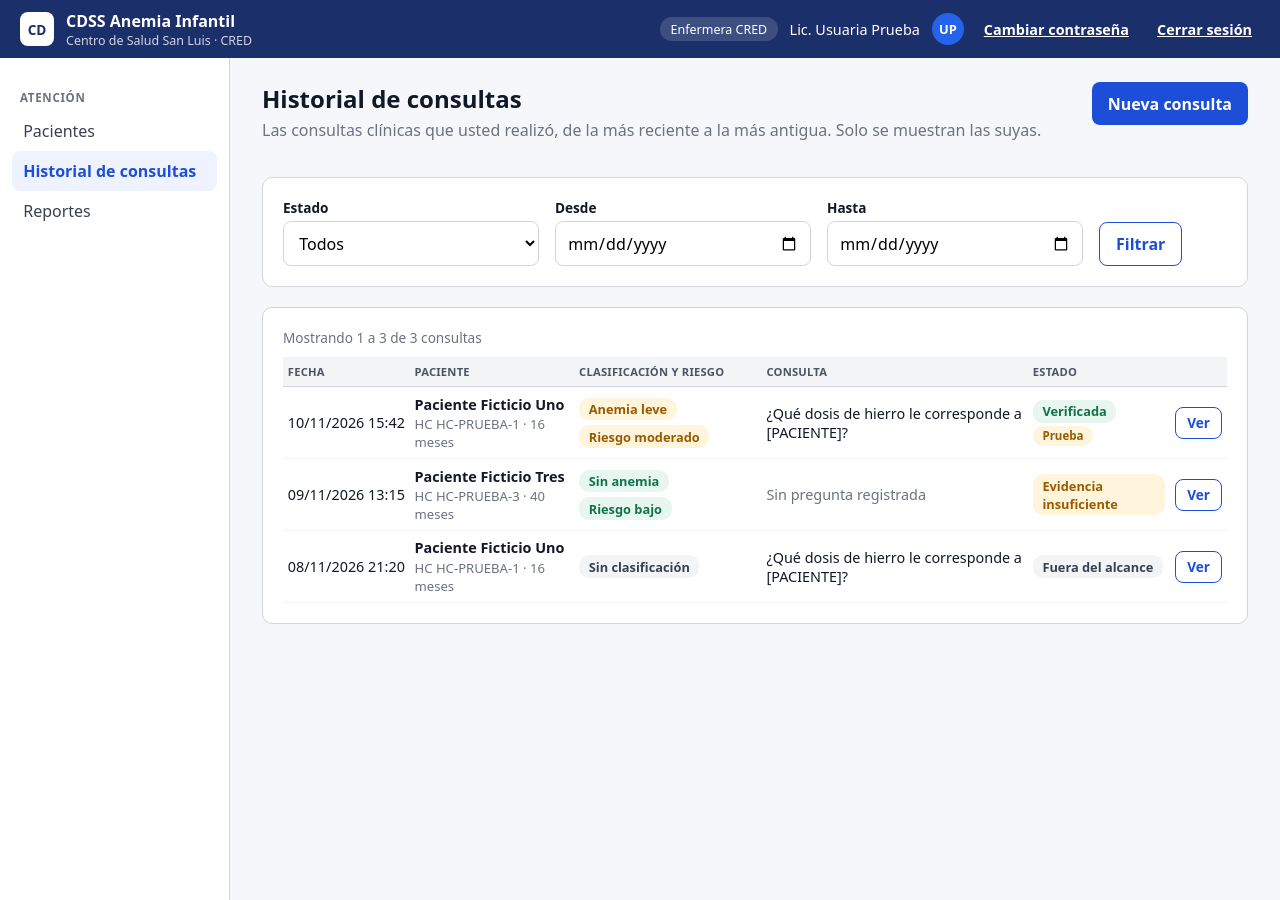
Test: Historial de consultas · lista › cada consulta abre su resultado (M05)
This screenshot has width=1280, height=900.
Click the link with aria-label "Ver la consulta de": {"x": 1199, "y": 423} [1175,407,1222,439]
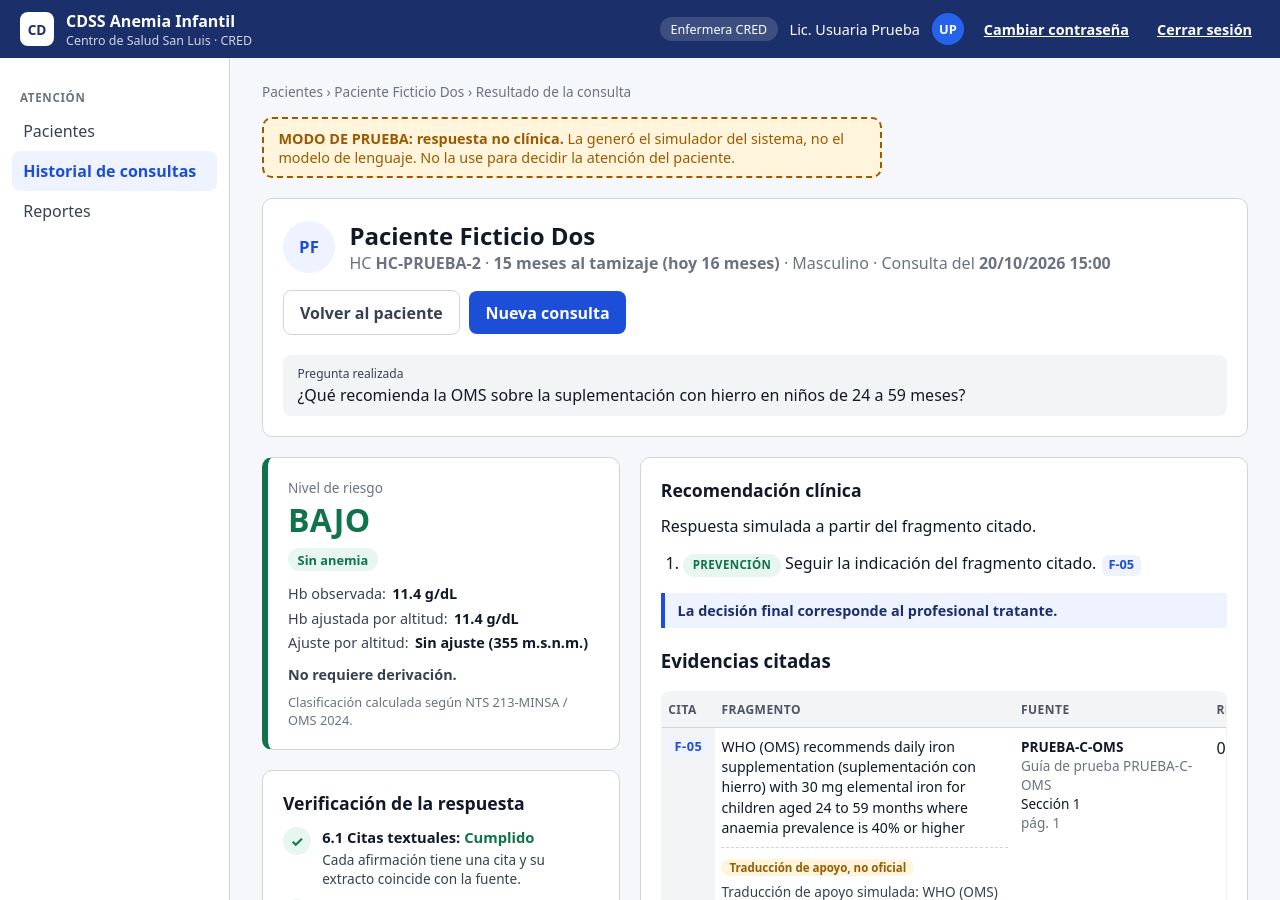
Result: the text "Pregunta realizada" is shown at [297,365,403,382]
